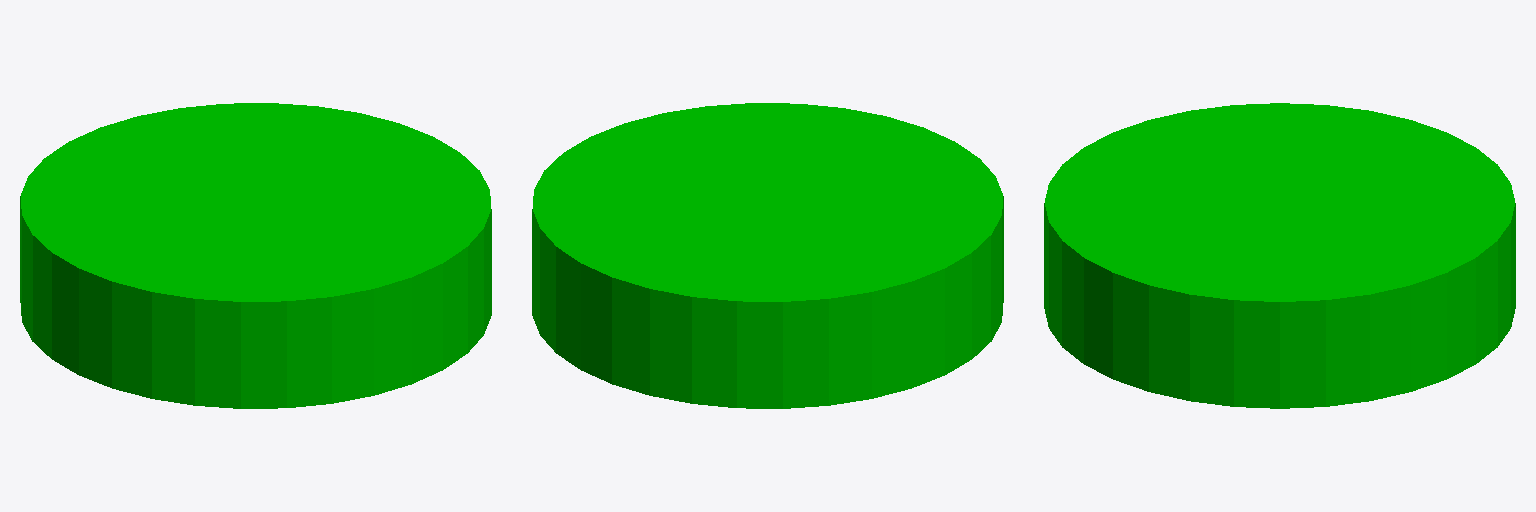
The robot description file, URDF, robot "target":
<?xml version="1.0"?>
<robot name="target">

  <material name="green">
    <color rgba="0 0.8 0 0.4"/>
  </material>

  <link name="target_link">
    <visual>
      <geometry>
        <cylinder length="0.5" radius="1"/>
      </geometry>
      <material name="green"/>
    </visual>
  </link>

</robot>

--- What the picture shows (computed from the rendered views, not written in the file) ---
The picture shows the robot from 3 angles, left to right: view 1: azimuth 30°, elevation 25°; view 2: azimuth 150°, elevation 25°; view 3: azimuth 270°, elevation 25°; orthographic projection.
Model target with 1 links and 0 joints (none), rooted at target_link, posed all joints at 0.
Visible links, largest first — view 1: target_link; view 2: target_link; view 3: target_link.
Boxes of the visible links, left/top/right/bottom form: target_link: left=20, top=103, right=491, bottom=408; target_link: left=532, top=103, right=1003, bottom=408; target_link: left=1044, top=103, right=1515, bottom=408.
Size in the robot's own frame: 2 by 2 by 0.5 metres.
Geometry: primitives only (box / cylinder / sphere), no mesh files.